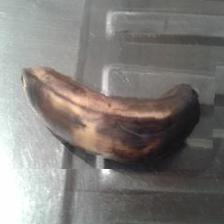Banana Rotten: (14, 46, 217, 170)
